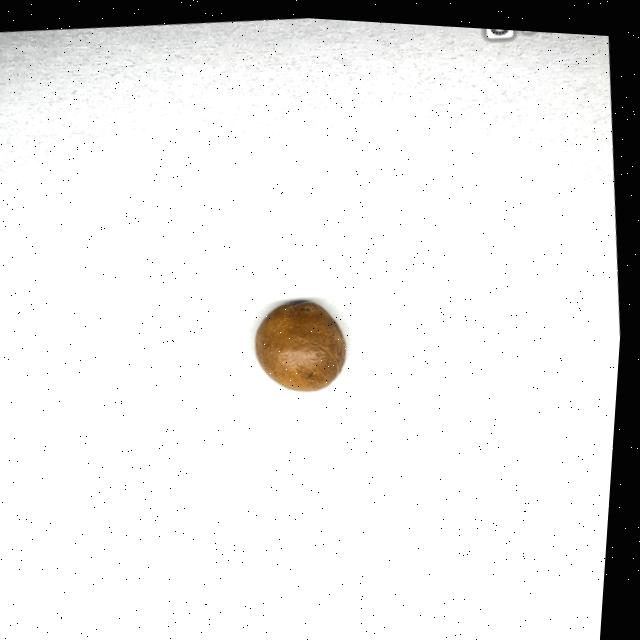Good bean: (256, 294, 353, 391)
